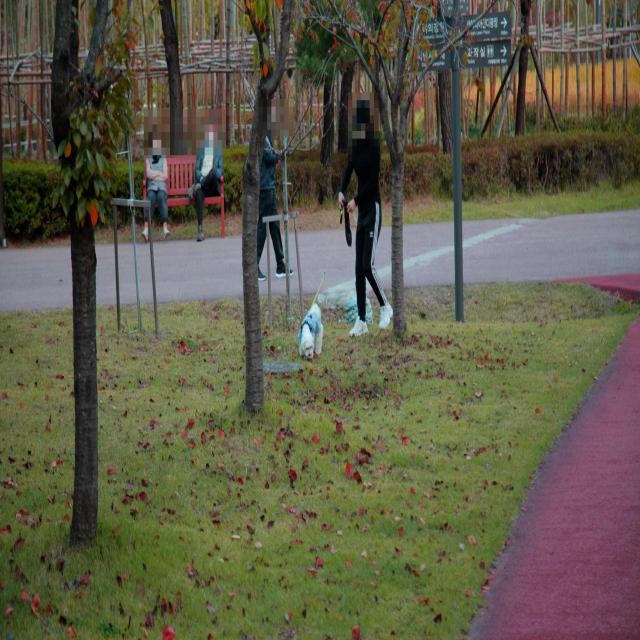Leashed_Dog: (297, 189, 368, 359)
